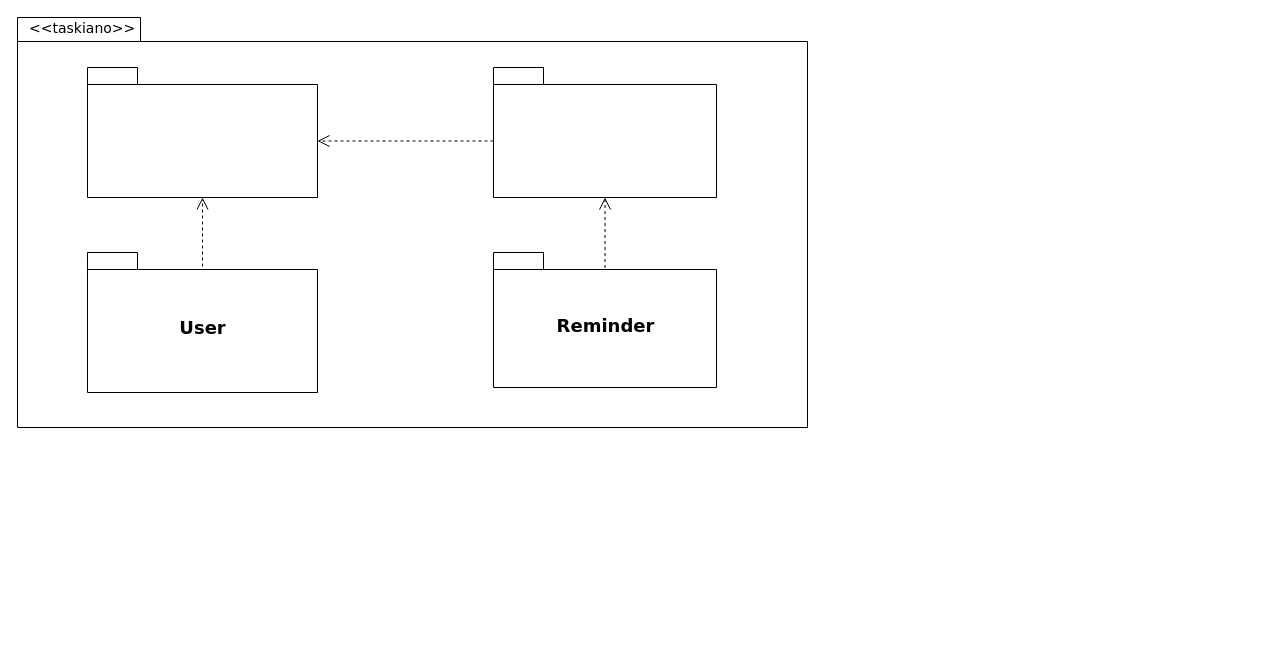
Some shapes in this 1279 by 669 pixel diagram are drawn without their labels. The shapes that lost their labels are listed below. From the top down, each one's box as (x1, y1, x2, y2) in pixels, then its label:
(86, 66, 318, 198): Project
(492, 66, 716, 198): Task
